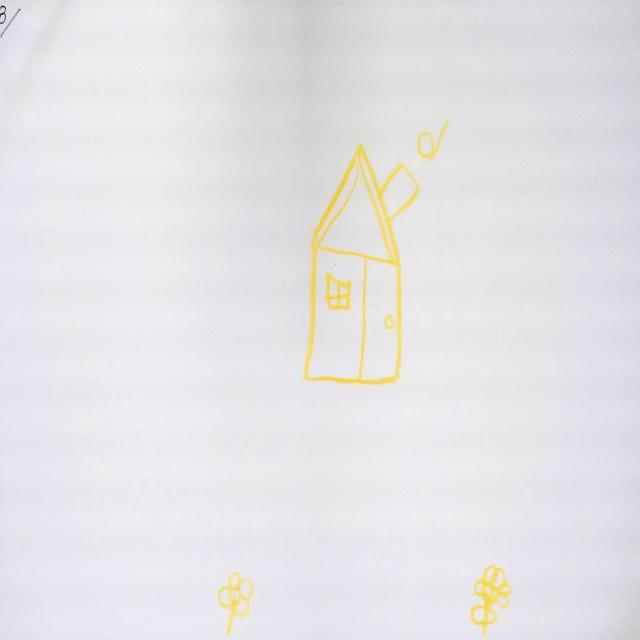chimney: (383, 165, 424, 225)
door: (362, 258, 402, 383)
house: (305, 146, 420, 384)
roof: (310, 141, 406, 267)
wall: (300, 243, 406, 384)
window: (328, 275, 353, 311)
